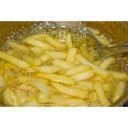frenchfries: (1, 37, 126, 107)
